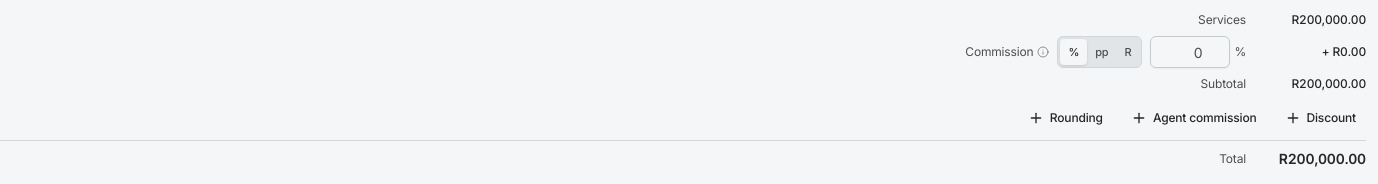
Test: QuoteAdjustmentsLedger — currency and wording › explains how a change reaches a client who already has the quote
The width and height of the screenshot is (1378, 184).
Focus the button named "Commission info": (1043, 52) 1029,38 -> 1057,66
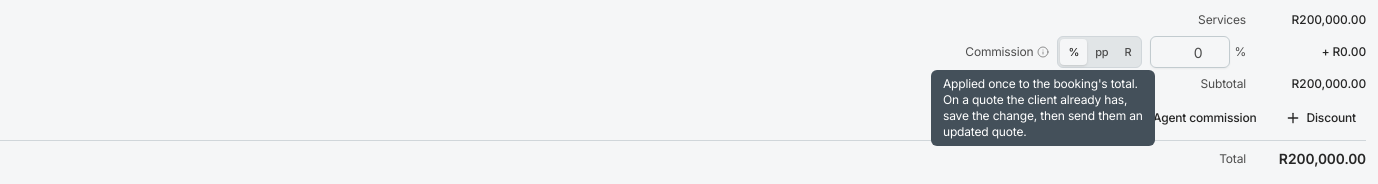
Expected: the tooltip does not show "Editable any time before the quote is sent", 931,70 -> 1155,146
Result: the tooltip shows "Applied once to the booking's total. On a quote the client already has, save the change, then send them an updated quote." at 943,76 -> 1143,139
